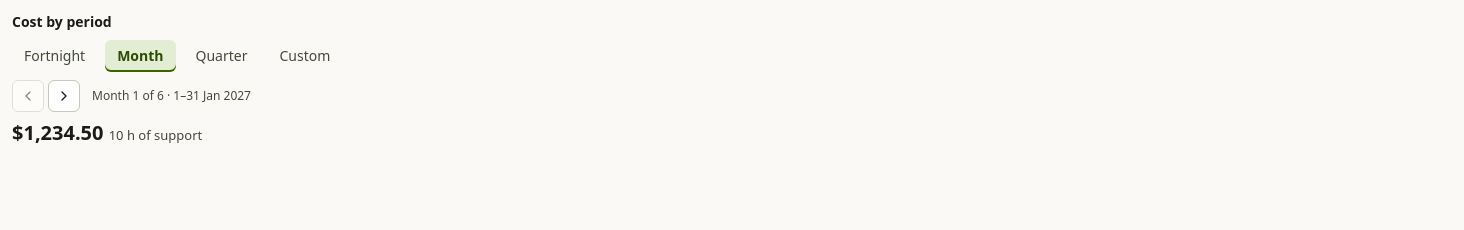
Scenario: Cost by period: Custom › asks for nothing while To is before From or a box is empty, and says why
This screenshot has width=1464, height=230.
Expected: the text "$1,234.50" is shown, [12,119,104,146]
Click the radio button labelled "Custom": point(305, 56) [268,40,342,72]
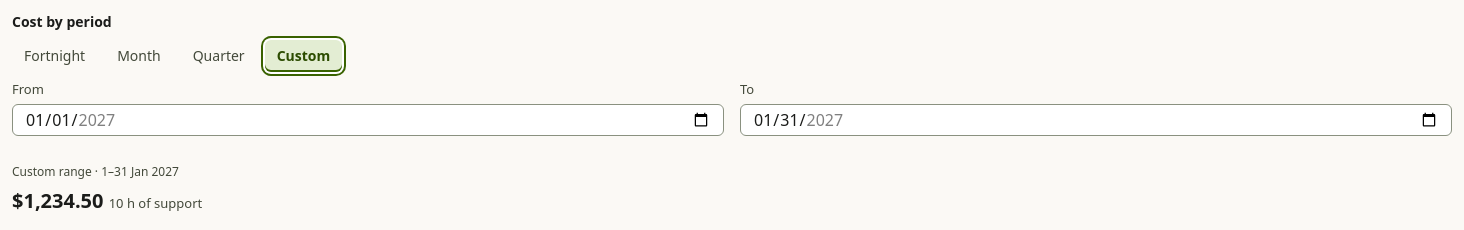
Expected: the text "$1,234.50" is shown, [12,186,104,214]
In the date field labelled "To": point(1096, 120) [740,104,1452,136], type "2026-12-20"
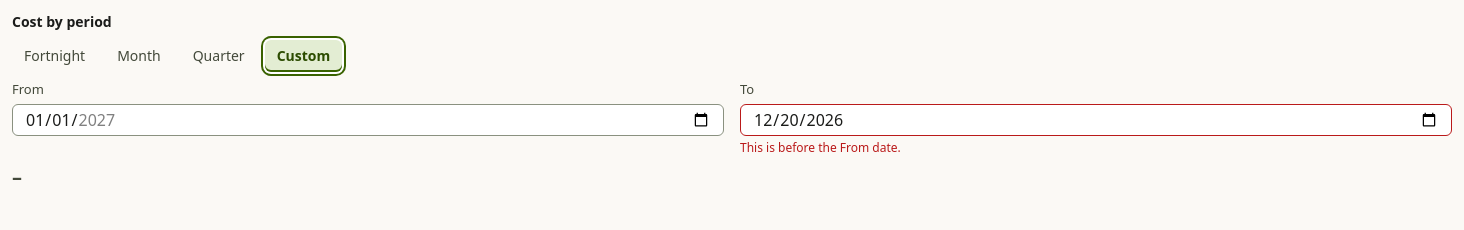
Now the text "This is before the From date." is shown, box [740,138,901,156]
Clear the date field labelled "From": point(368, 120) [12,104,724,136]
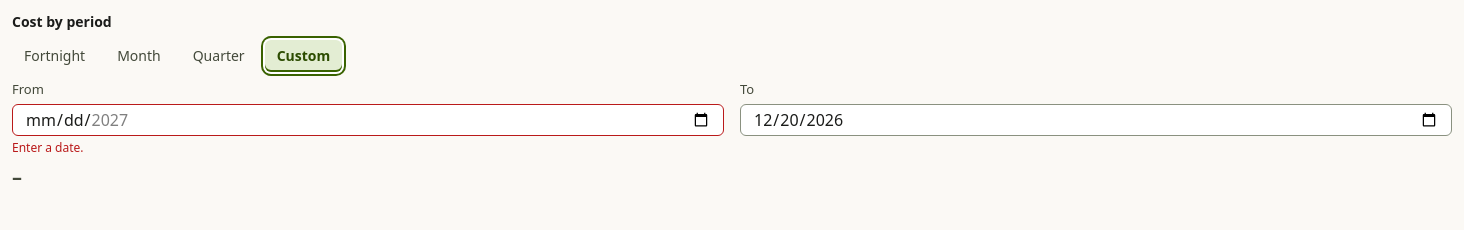
Now the text "Enter a date." is shown, box [12,138,84,156]
